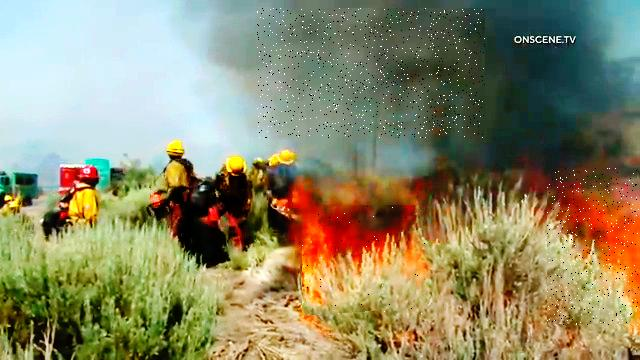fire: (257, 8, 485, 138), (548, 169, 640, 327), (302, 205, 426, 317)
